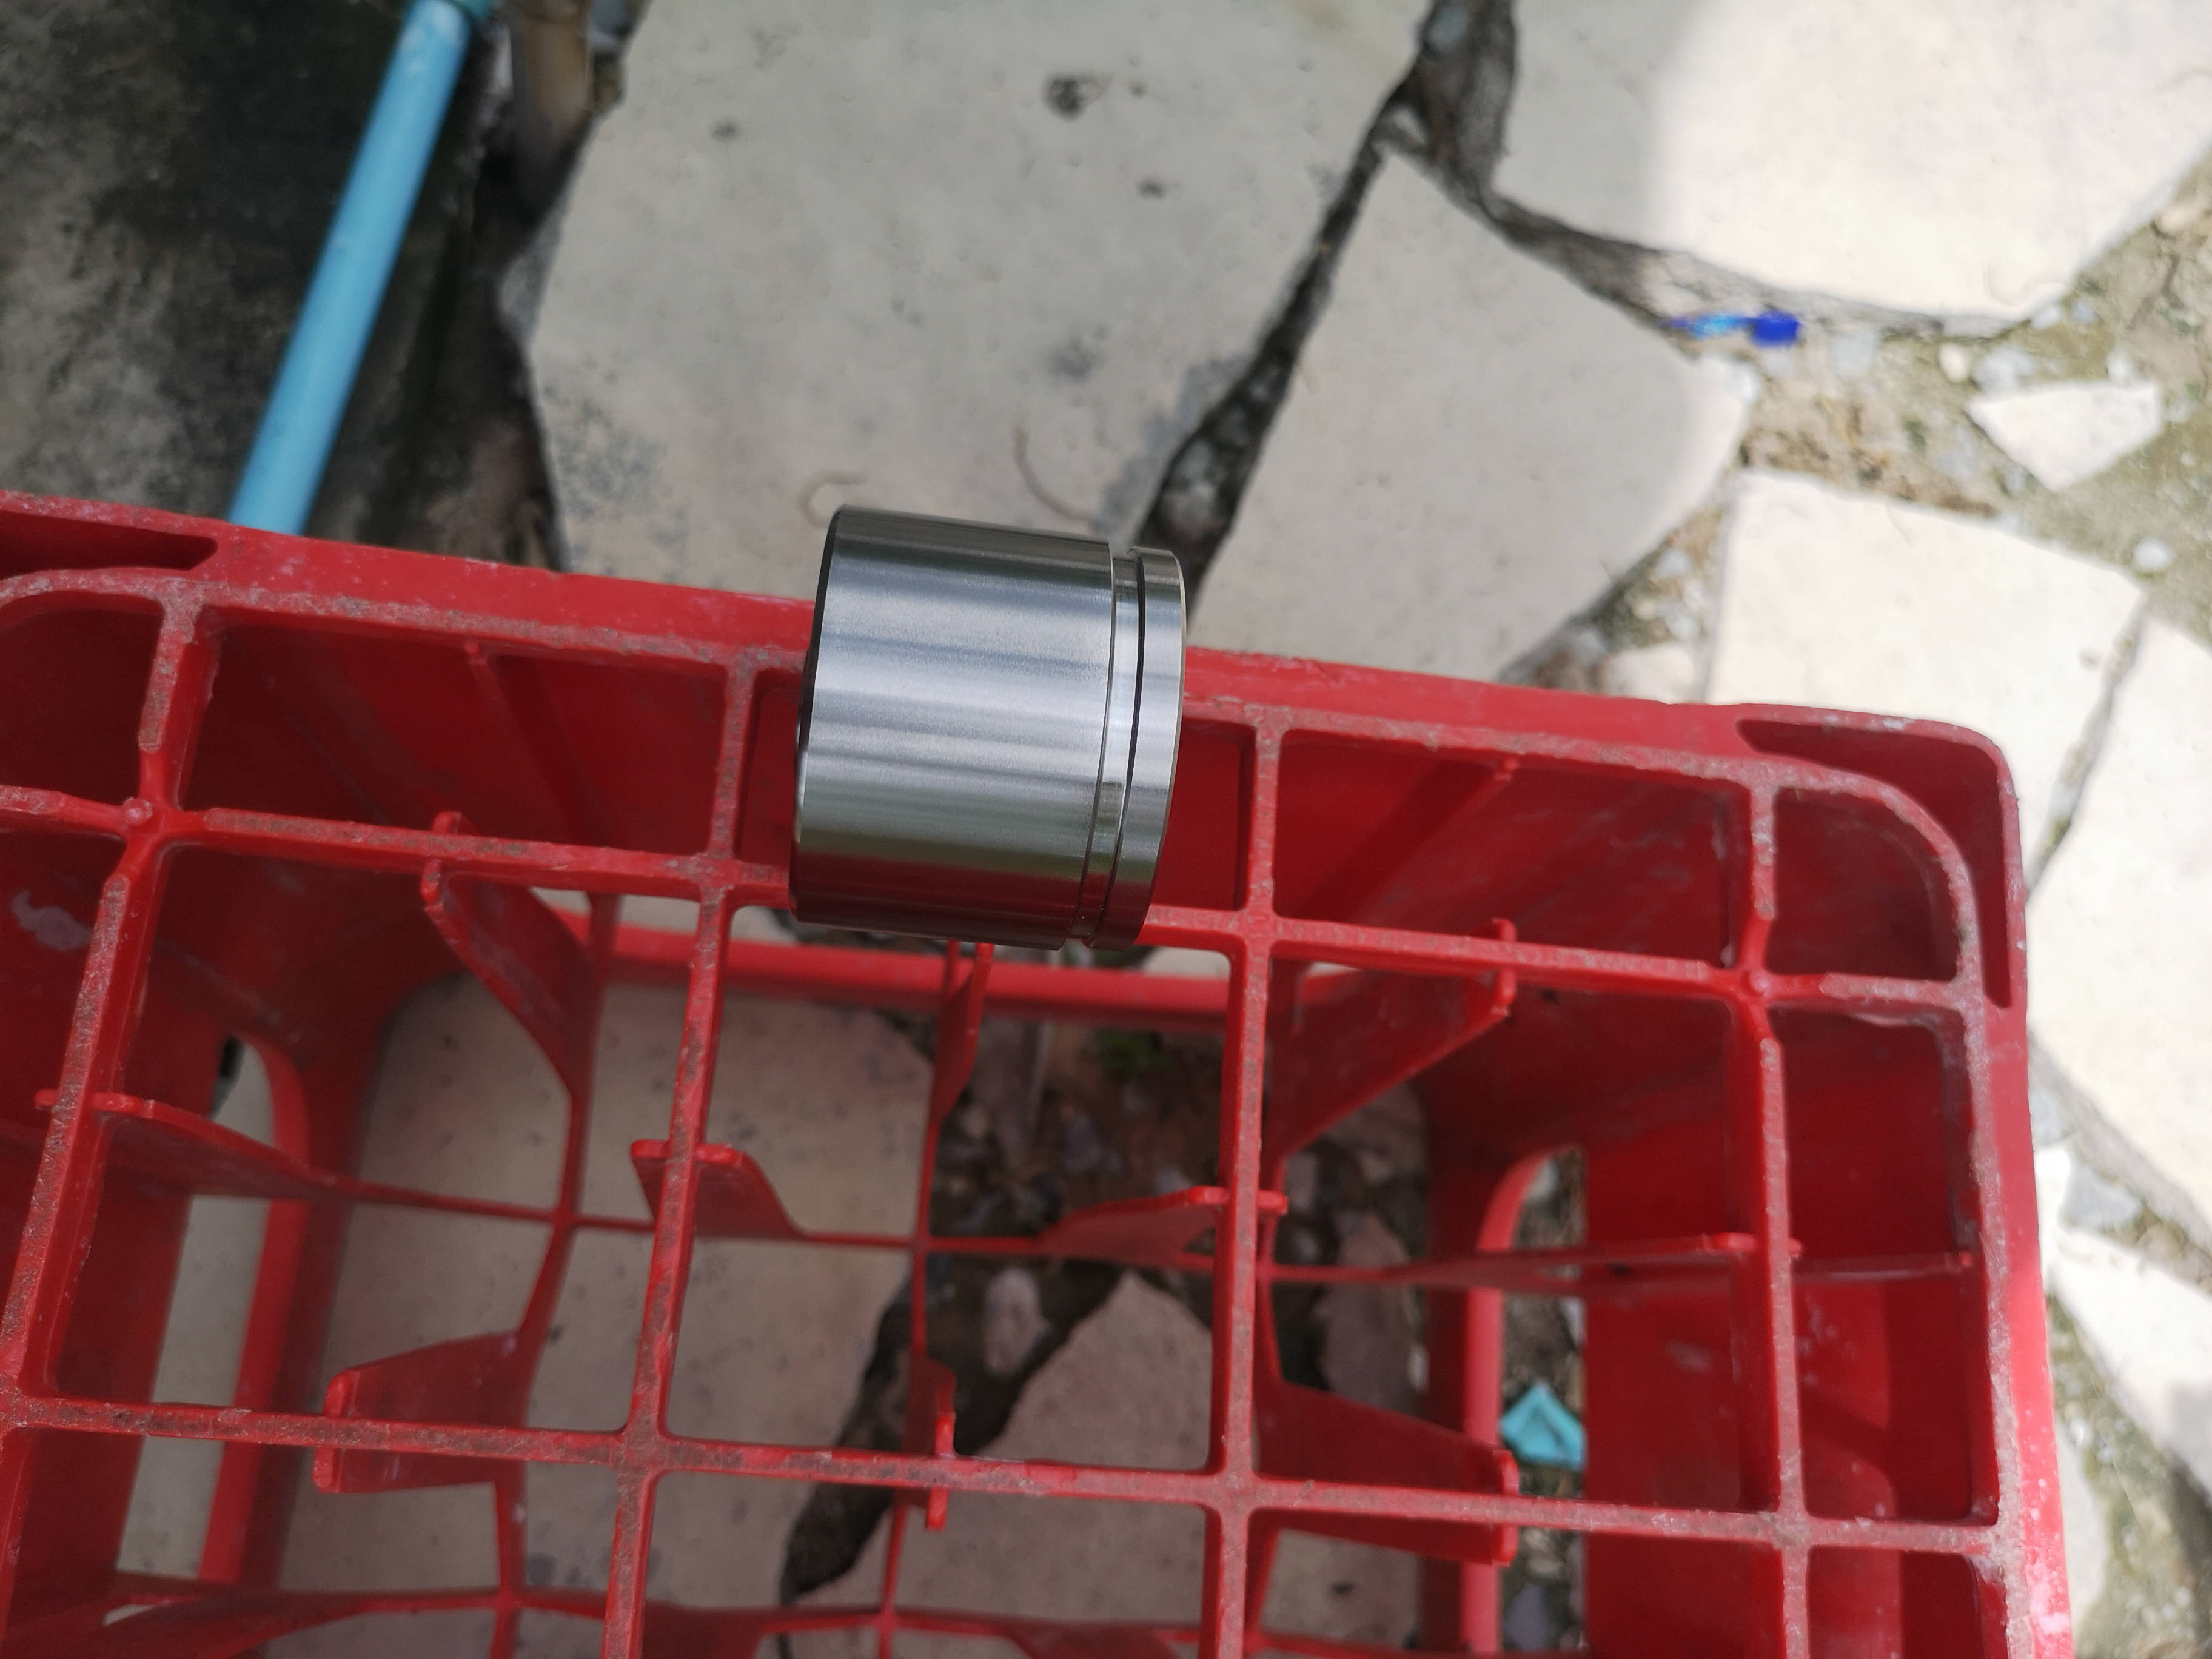ลูกสูบดิสเบรค: (772, 464, 1270, 962)
